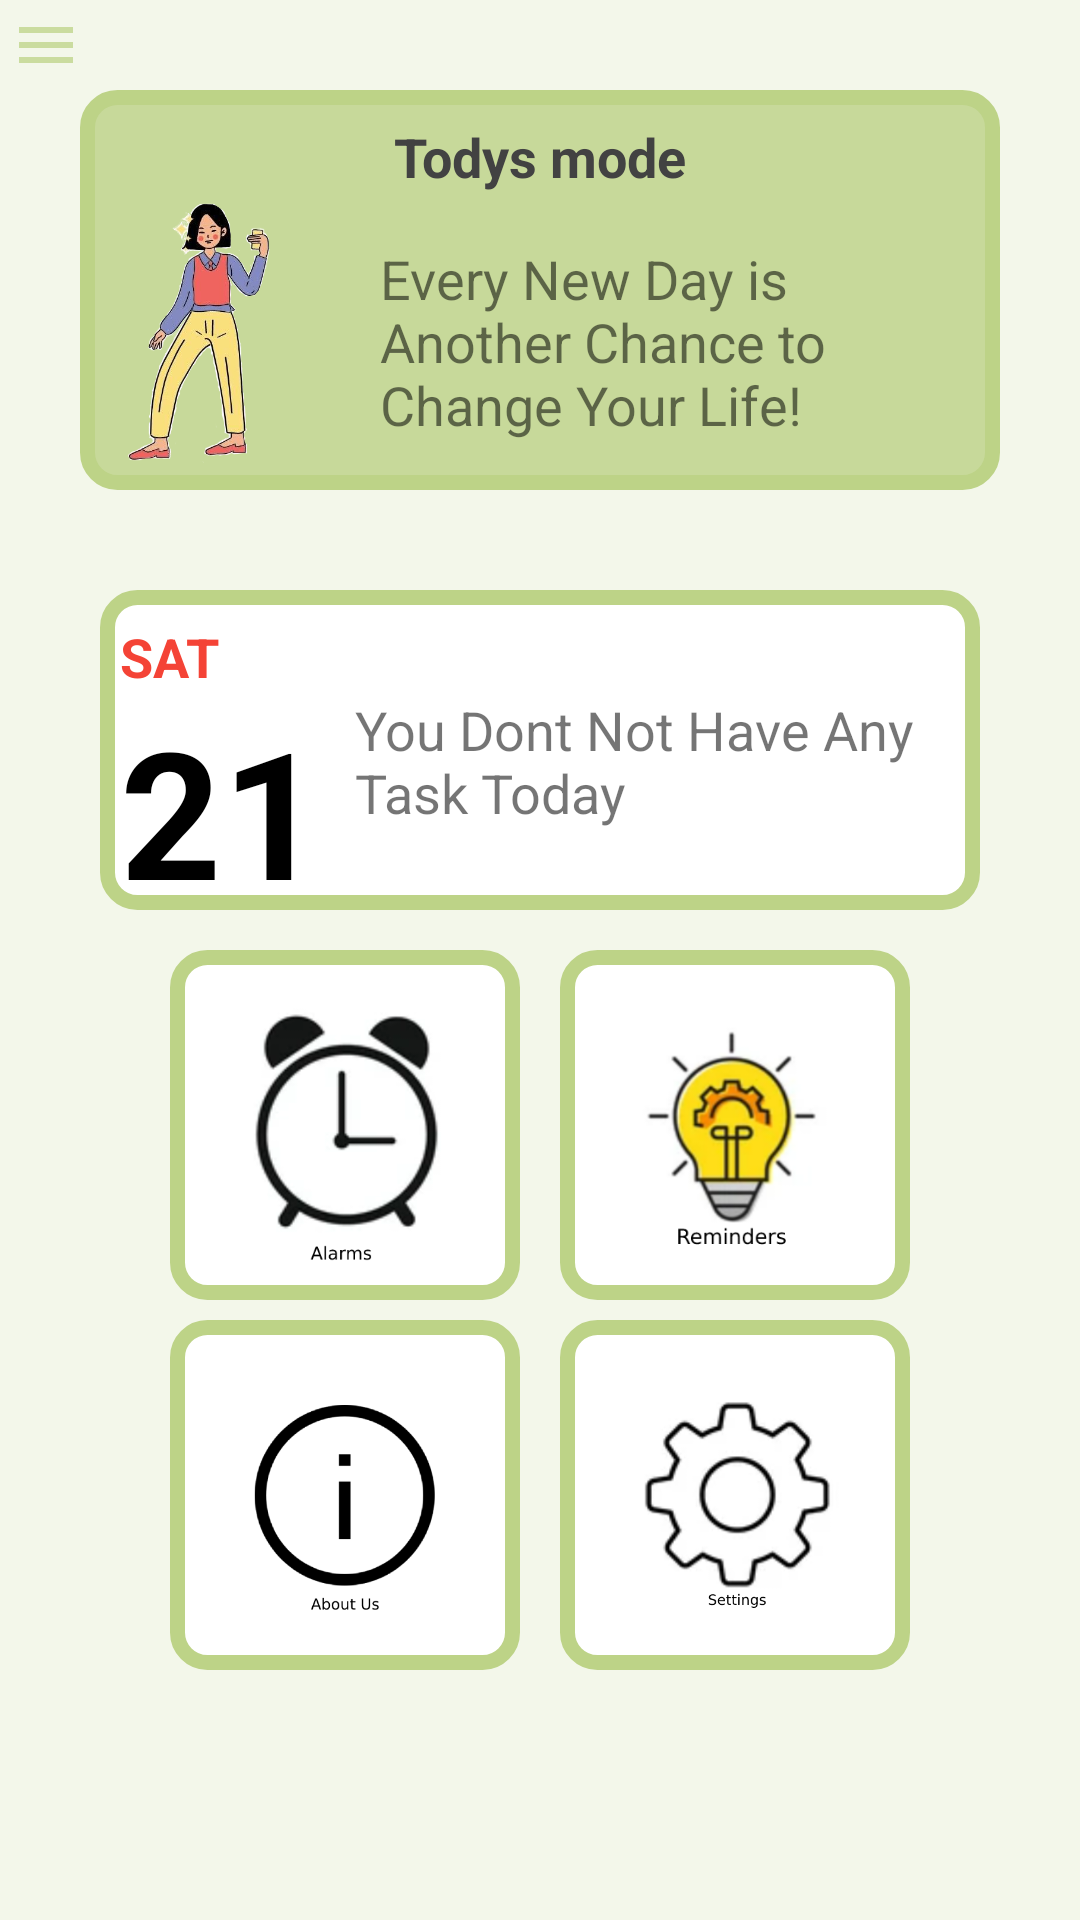

Screen size 1080 x 1920. Icon name, then its box in pixels as [left=x1, top=y1, right=x2, bottom=y2]:
female: [left=128, top=204, right=270, bottom=460]
